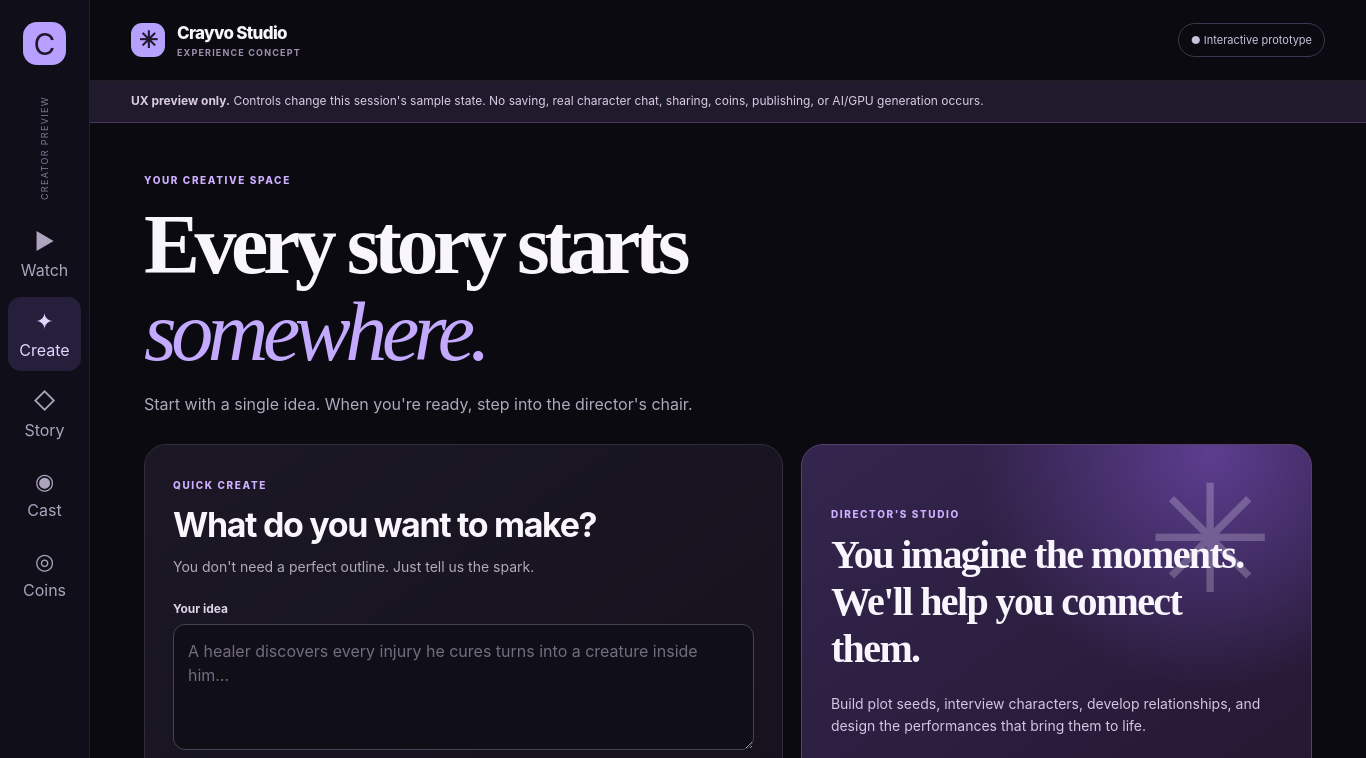
Test: creator experience preview › calculates illustrative compute quotes without allowing purchases
Click the button "◎ Coins": (44, 574) [8,537,81,611]
(page scrolled)
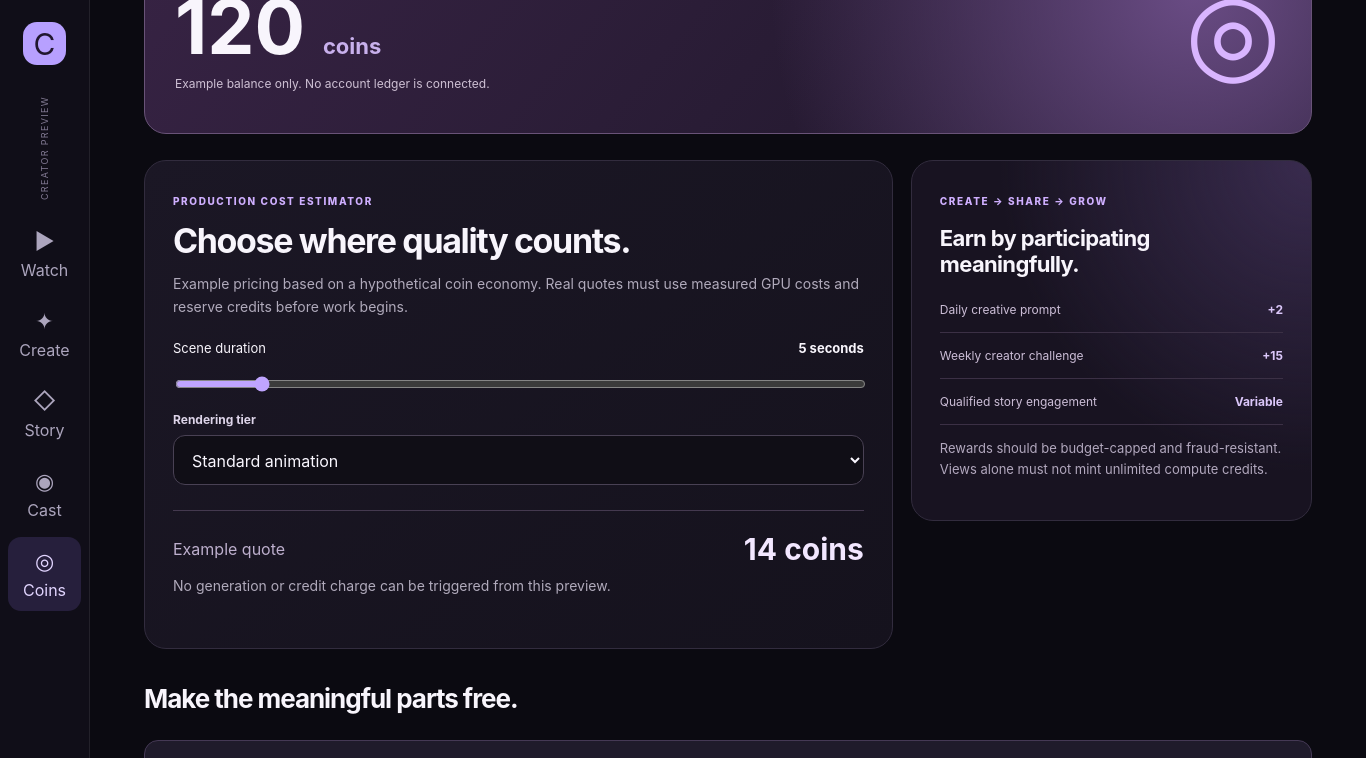
Result: the text "No generation or credit charge" is shown at [173,577,611,594]
Set the slider labelled "Scene duration 5 seconds" to "10": (461, 384) [175,376,866,392]
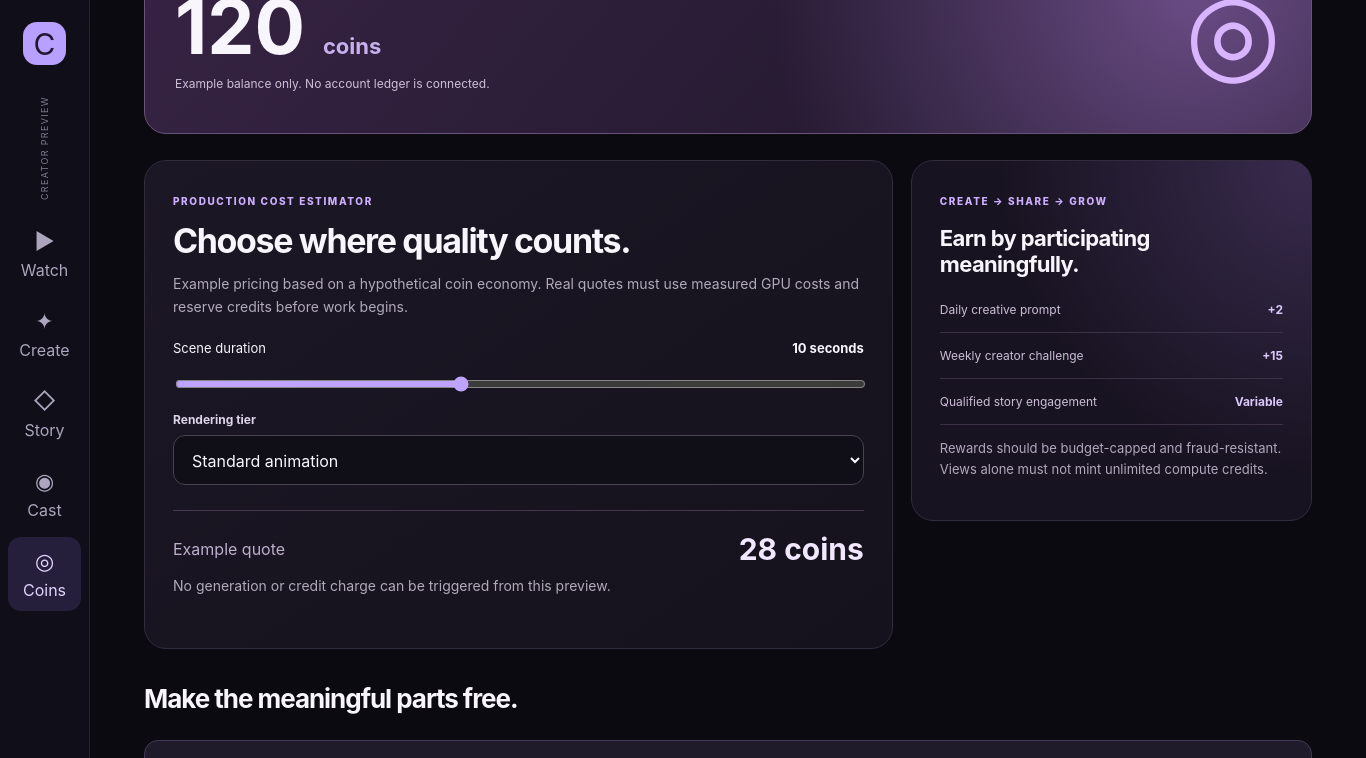
Result: the text "28 coins" is shown at [739,531,864,567]
